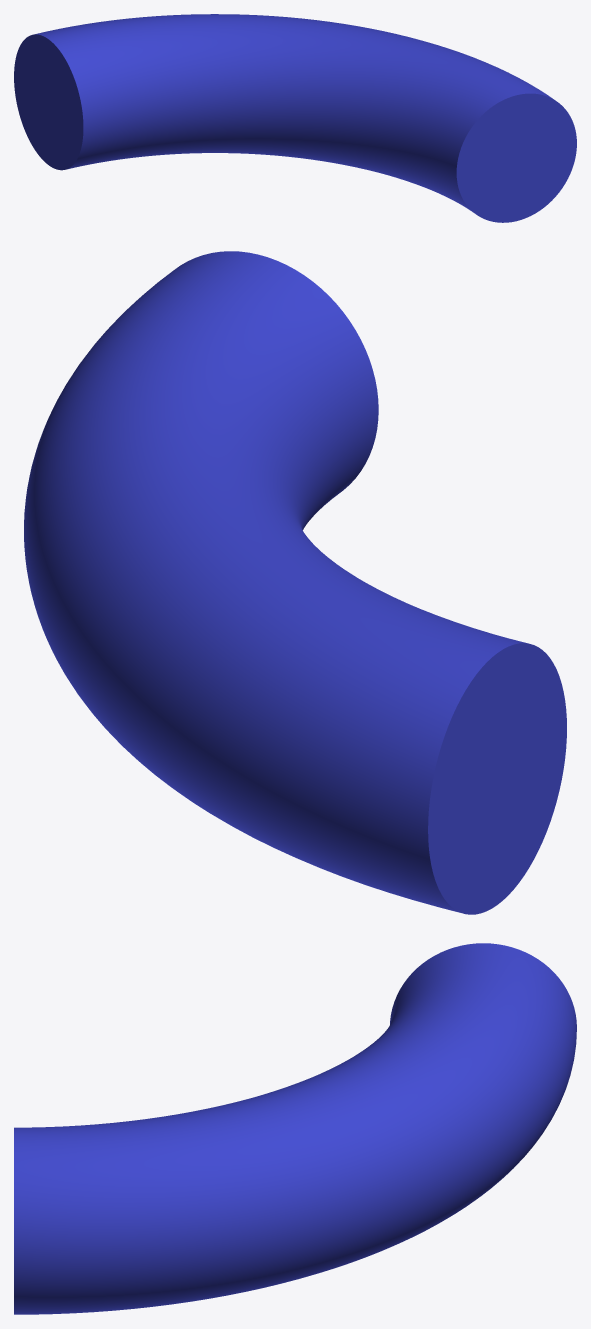
File: Shield.fbx
3 views of the same model, one above another, from view 1: azimuth 30°, elevation 25°; view 2: azimuth 150°, elevation 25°; view 3: azimuth 270°, elevation 25° (orthographic). The views are drawn at different scales.
Visible parts, largest first — view 1: root; view 2: root; view 3: root.
Part boxes in pixels (x1,y1,x2,y2): root: (14, 14, 576, 222); root: (24, 251, 566, 914); root: (14, 943, 576, 1314).
Size of the model in its own units: 0.4606 by 0.1566 by 0.4709.
